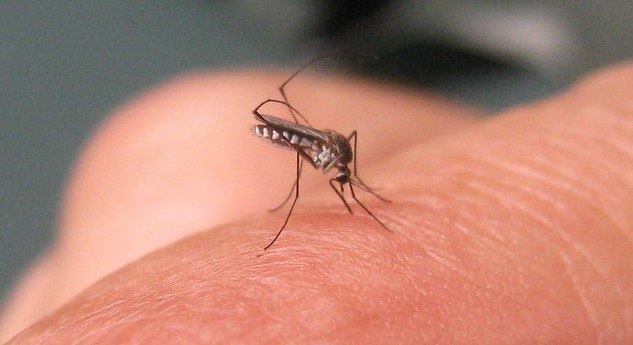dengue_mosquito: (251, 76, 391, 235)
